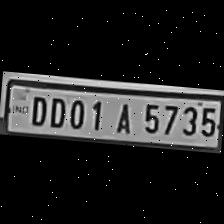0: (65, 94, 89, 130)
1: (85, 95, 109, 131)
3: (176, 100, 198, 136)
5: (136, 98, 163, 134), (197, 102, 218, 138)
7: (159, 101, 180, 135)
A: (109, 96, 138, 134)
D: (26, 91, 50, 126), (46, 92, 68, 128)
